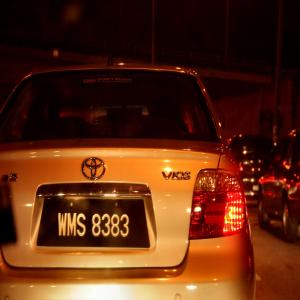Vehicle-registration-plate: (39, 206, 154, 258)
